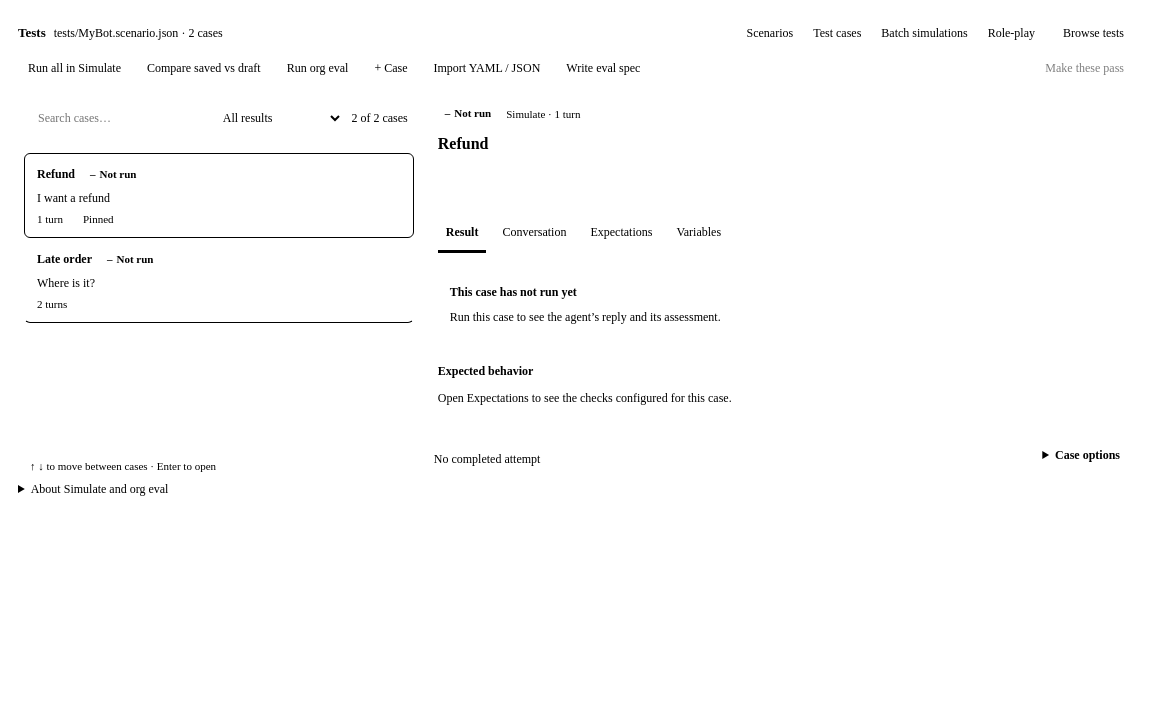
Test case: asks for read approval on a production org, then reruns the eval
Expected: the element with test id "tests-cases-workbench" is shown, [18, 89, 1134, 482]
Click the button "Run org eval" at (318,68), box [277, 58, 358, 79]
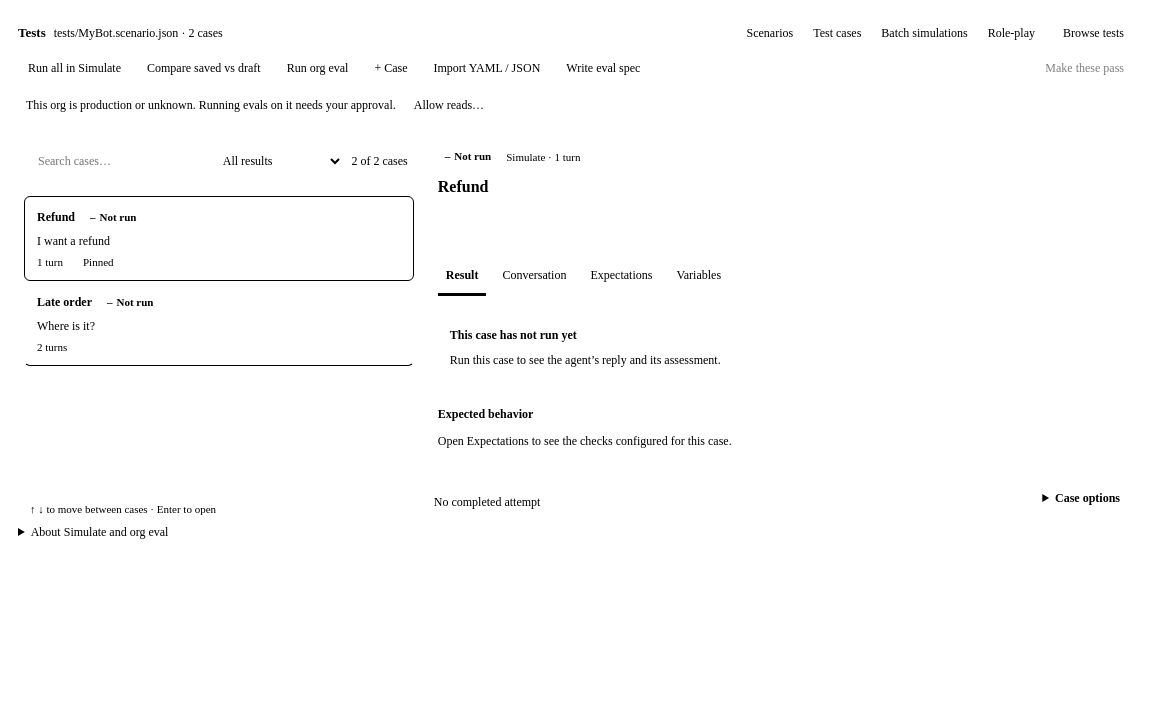
Expected: the text "needs your approval" is shown, [26, 98, 396, 112]
Click the button "Allow reads…" at (449,106), box [404, 95, 494, 116]
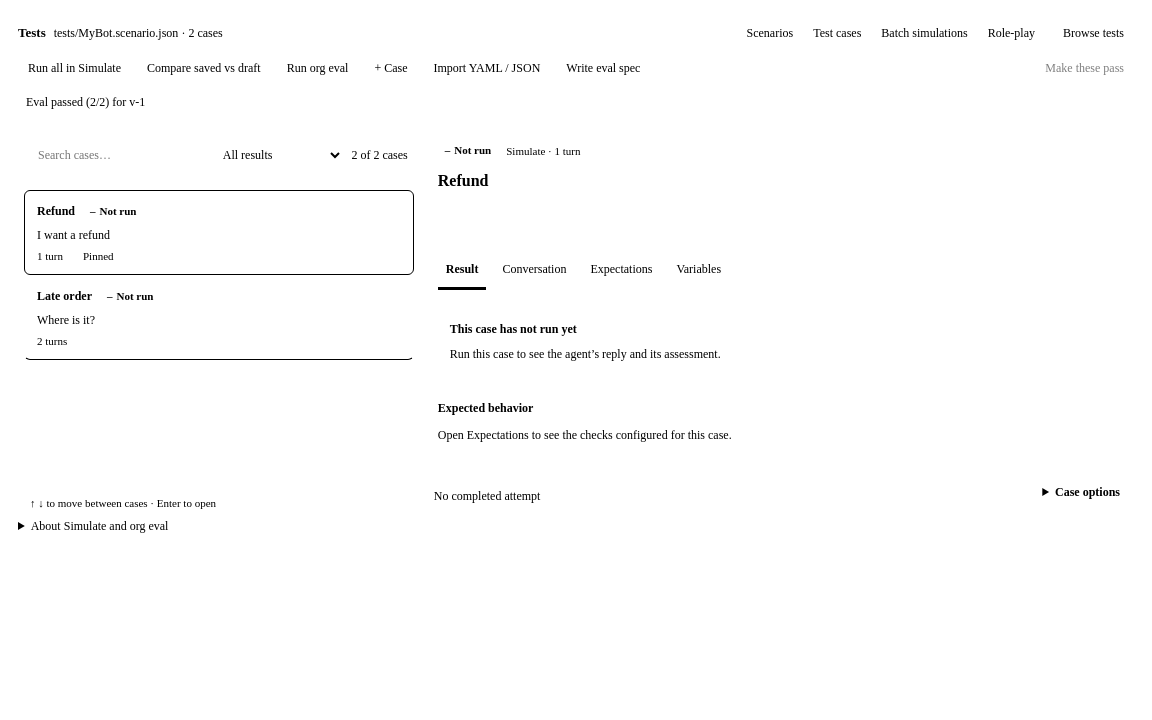
Expected: the text "Eval passed (2/2) for v-1" is shown, [26, 95, 145, 110]
